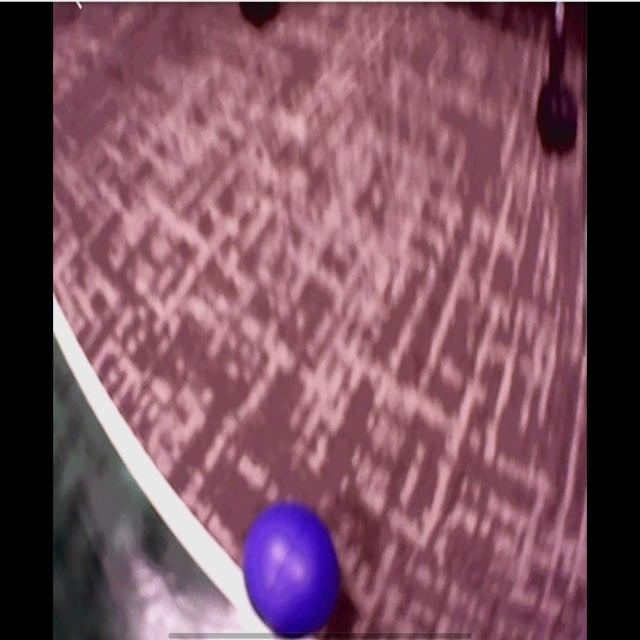ball: (243, 501, 341, 637)
